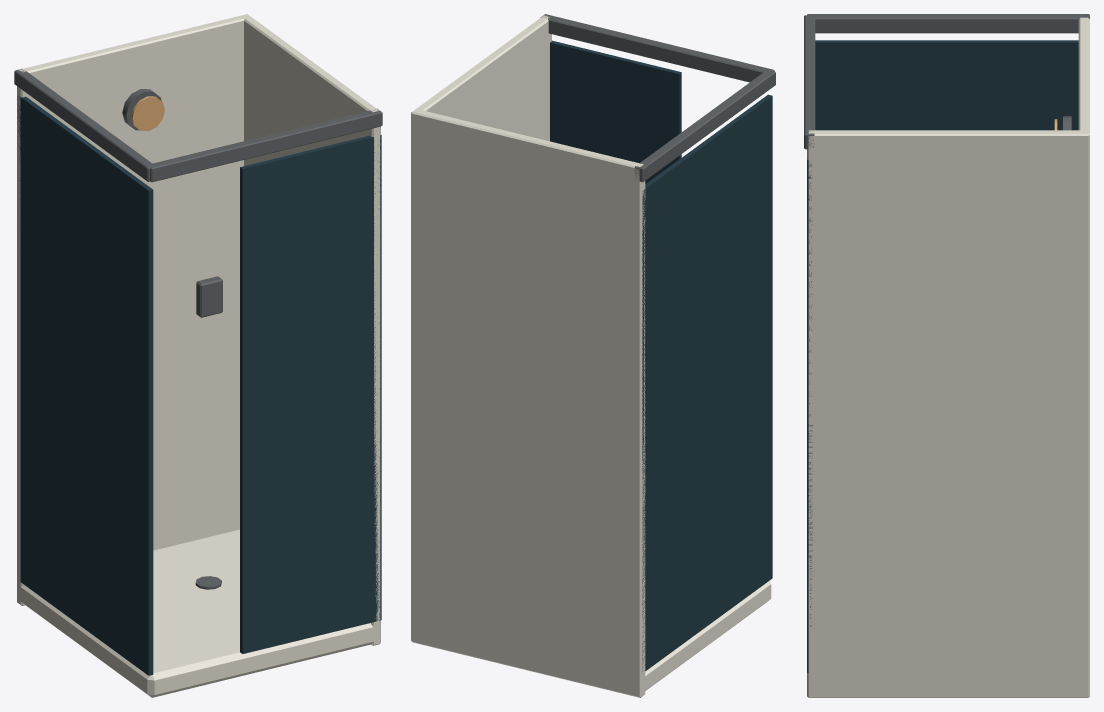
File: shower_stall.glb
The picture shows the model from 3 angles, left to right: view 1: azimuth 30°, elevation 25°; view 2: azimuth 150°, elevation 25°; view 3: azimuth 270°, elevation 25°; orthographic projection. The views are drawn at different scales.
Parts seen in each view (by area): view 1: shower_stall; view 2: shower_stall; view 3: shower_stall.
Part boxes in pixels (x1=…): shower_stall: x1=14, y1=14, x2=382, y2=697; shower_stall: x1=411, y1=14, x2=775, y2=697; shower_stall: x1=804, y1=14, x2=1089, y2=697.
Size of the model in its own units: 1.01 by 2.2 by 1.01.
